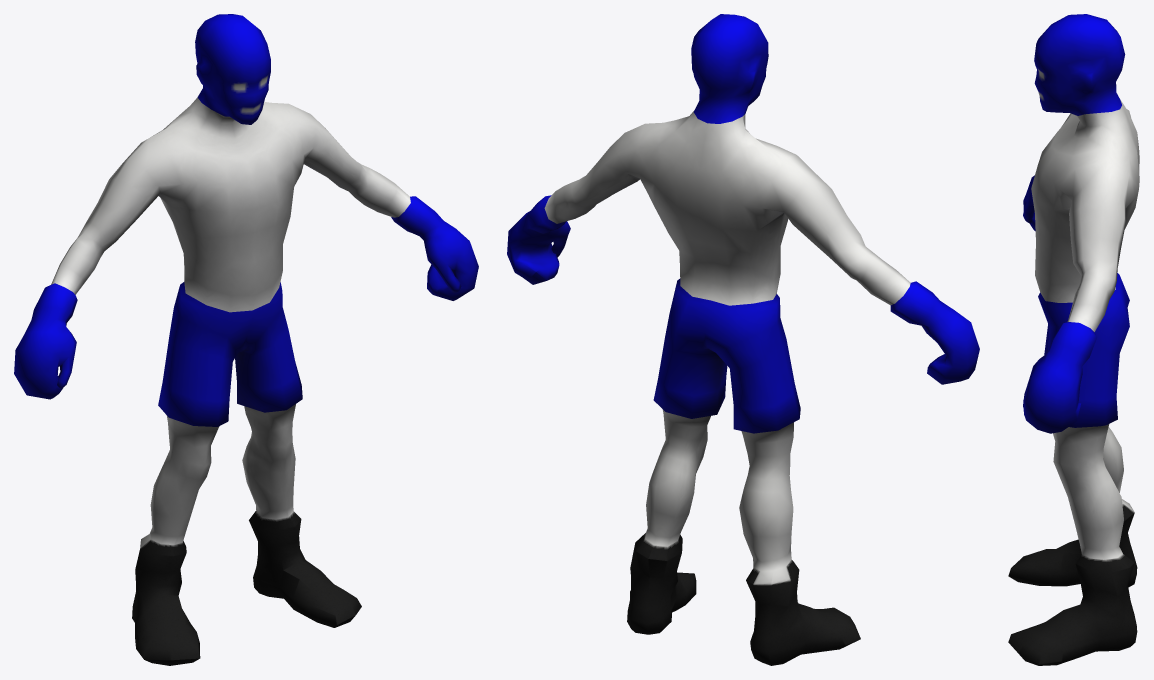
The model's file is boxer.fbx.
3 views of the same model, side by side, from view 1: azimuth 30°, elevation 25°; view 2: azimuth 150°, elevation 25°; view 3: azimuth 270°, elevation 25° (orthographic). The views are drawn at different scales.
Visible parts, largest first — view 1: boxer; view 2: boxer; view 3: boxer.
Part boxes in pixels (box(x1,y1,x2,y2)): boxer: box(14, 14, 478, 665); boxer: box(507, 14, 979, 665); boxer: box(1008, 14, 1139, 665).
Bounding box in the file's own units: 1.53 × 1.95 × 0.3863.
1 material, 1 textured.
